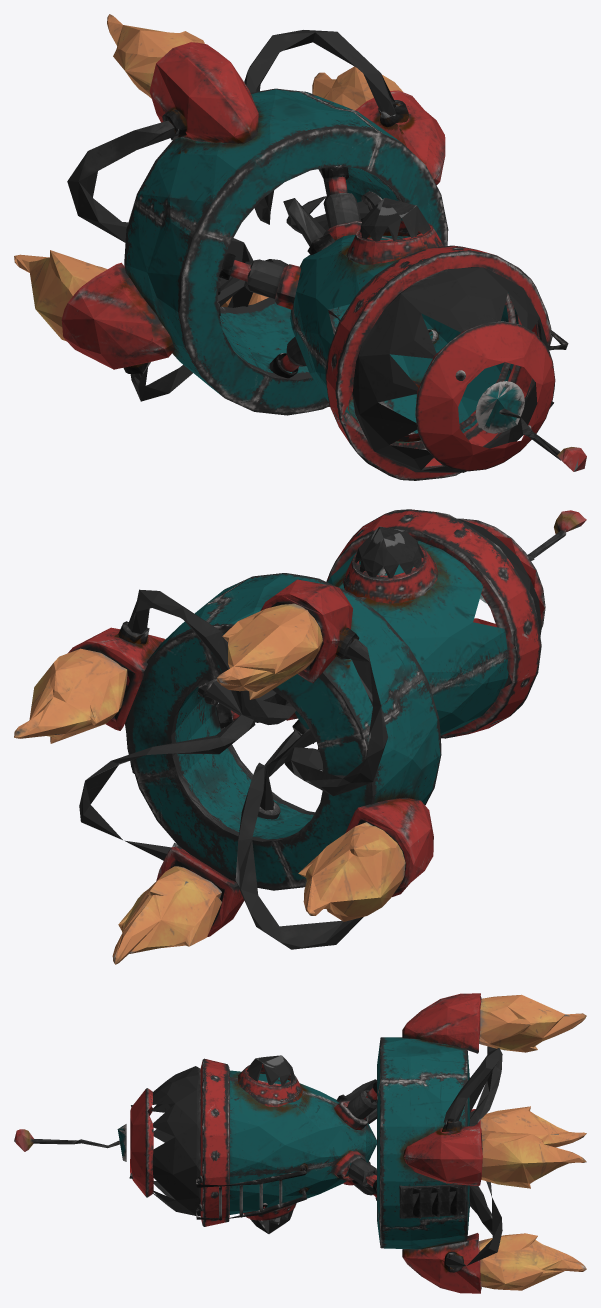
The model's file is Rocket.obj.
3 views of the same model, one above another, from view 1: azimuth 30°, elevation 25°; view 2: azimuth 150°, elevation 25°; view 3: azimuth 270°, elevation 25° (orthographic). The views are drawn at different scales.
Visible parts, largest first — view 1: Object.1; view 2: Object.1; view 3: Object.1.
Boxes of the visible parts, bbox=[...] form: Object.1: bbox=[14, 14, 586, 480]; Object.1: bbox=[14, 509, 586, 964]; Object.1: bbox=[14, 993, 586, 1293].
Size of the model in its own units: 19.87 by 19.85 by 39.84.
Materials: 1 (1 with a texture image).
